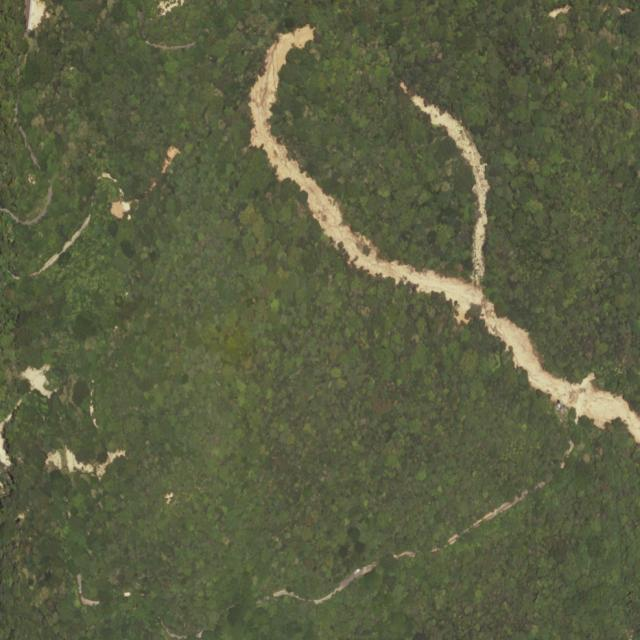landslide: (249, 24, 640, 443)
